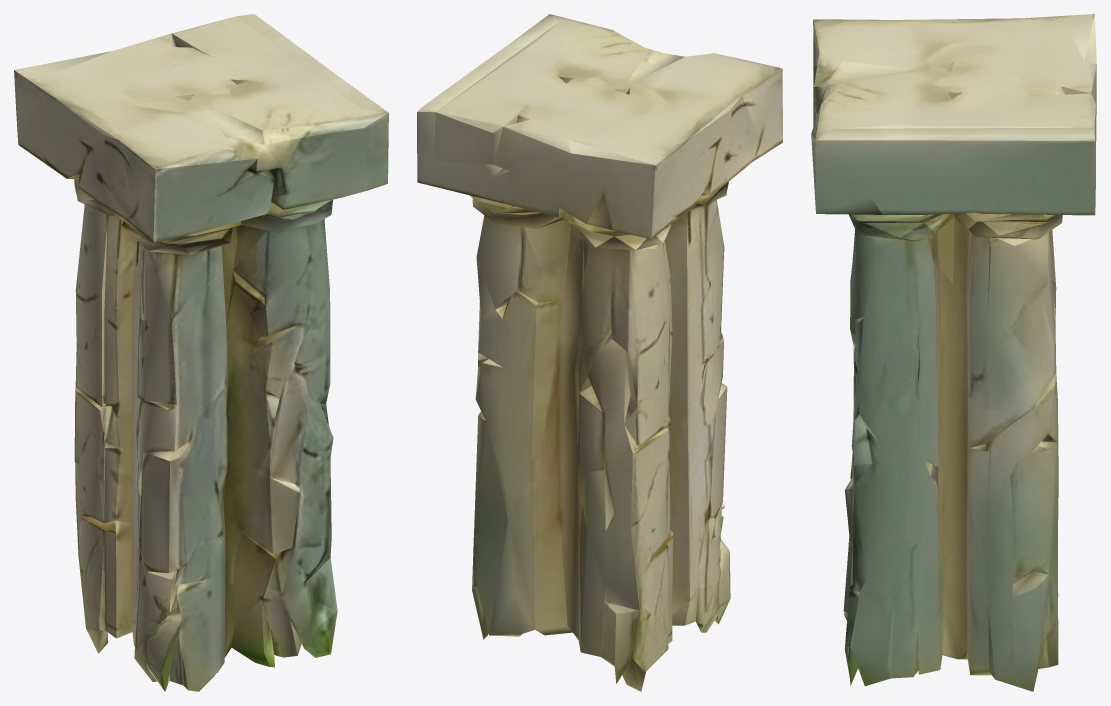
File: ruinColumn.glb
3 renders of one model, left to right at view 1: azimuth 30°, elevation 25°; view 2: azimuth 150°, elevation 25°; view 3: azimuth 270°, elevation 25°, orthographic. The views are drawn at different scales.
Parts seen in each view (by area): view 1: model; view 2: model; view 3: model.
Part boxes in pixels (<box>): model: <box>14,14,388,691</box>; model: <box>417,14,782,691</box>; model: <box>811,14,1096,691</box>.
Size of the model in its own units: 0.8417 by 1.9 by 0.8288.
Materials: 1 (1 with a texture image).
